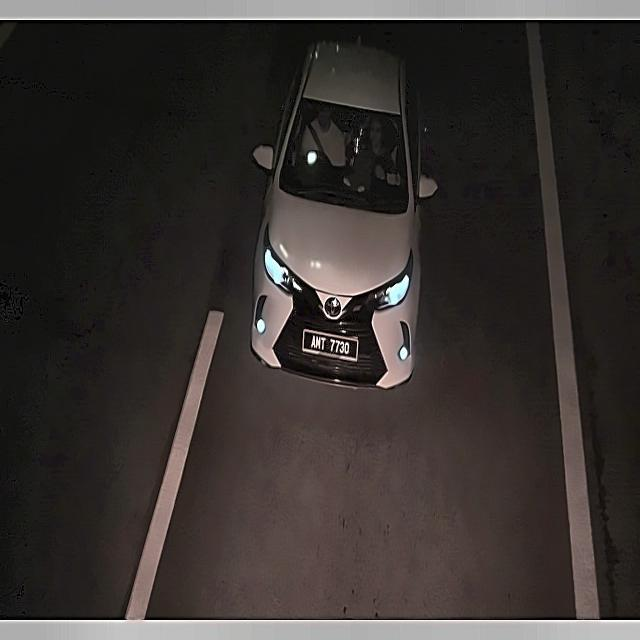car: (301, 324, 361, 368)
